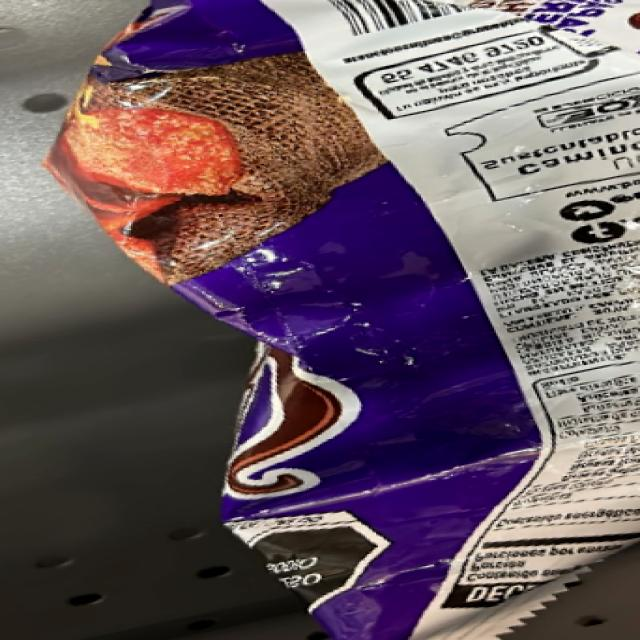chipsFuego: (76, 14, 386, 498)
